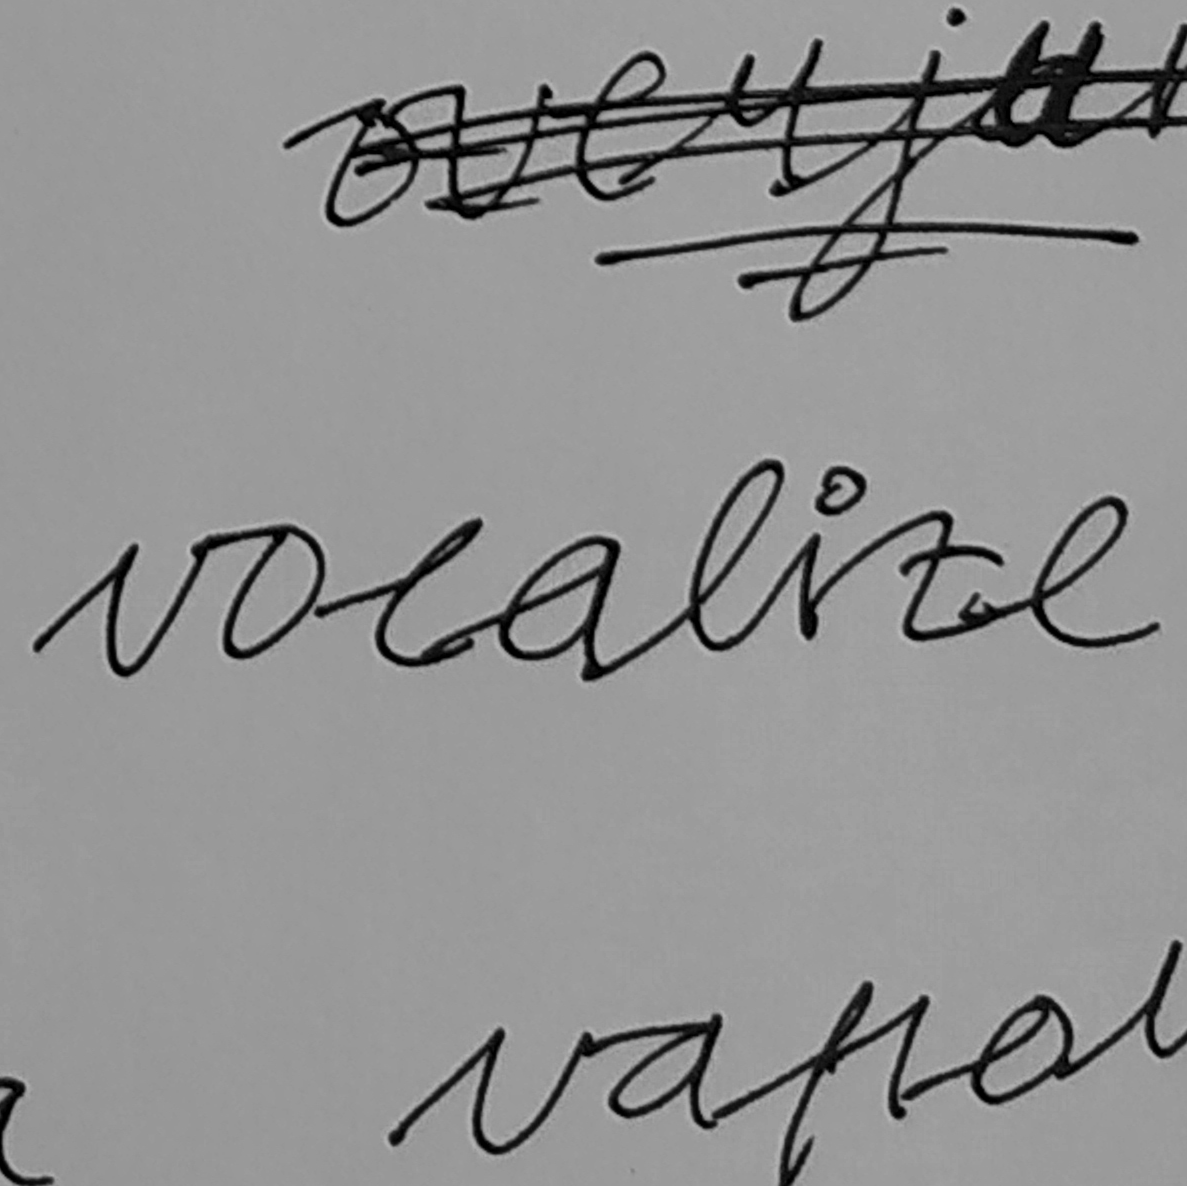a: (496, 531, 624, 682)
c: (370, 512, 487, 670)
e: (1025, 492, 1169, 651)
i: (791, 462, 870, 649)
l: (683, 453, 787, 657)
o: (219, 519, 330, 665)
v: (94, 530, 209, 680)
z: (888, 506, 1008, 643)
